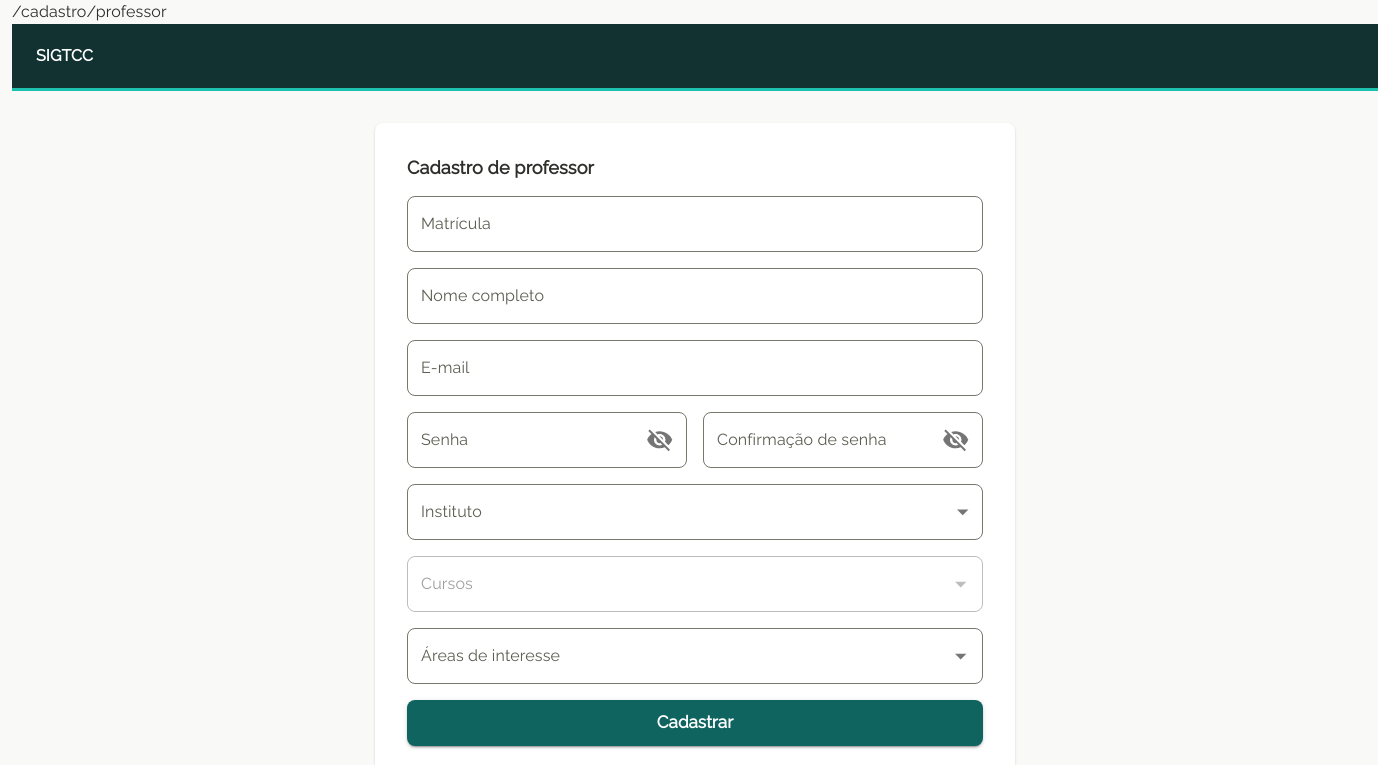
TeacherRegistrationPage › exige ao menos um curso e uma área, com os erros junto dos campos
The width and height of the screenshot is (1378, 765).
Check: the heading "Cadastro de professor" is shown, box [407,157,594,178]
Click the button "Cadastrar" at [695, 723], box [407,700,983,746]
(page scrolled)
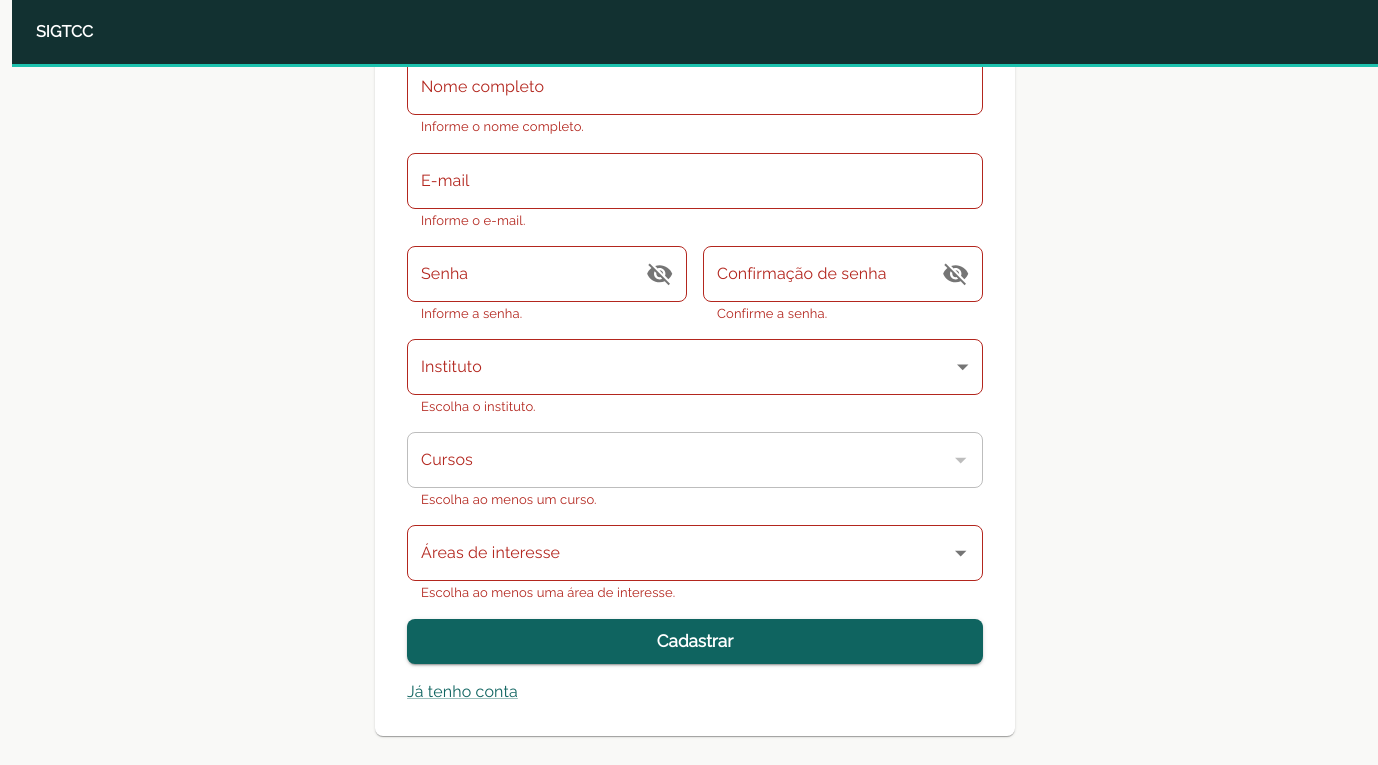
Check: the text "Informe o nome completo." is shown, box [421,119,584,134]
Check: the text "Informe o e-mail." is shown, box [421,213,526,228]
Check: the text "Informe a senha." is shown, box [421,306,522,321]
